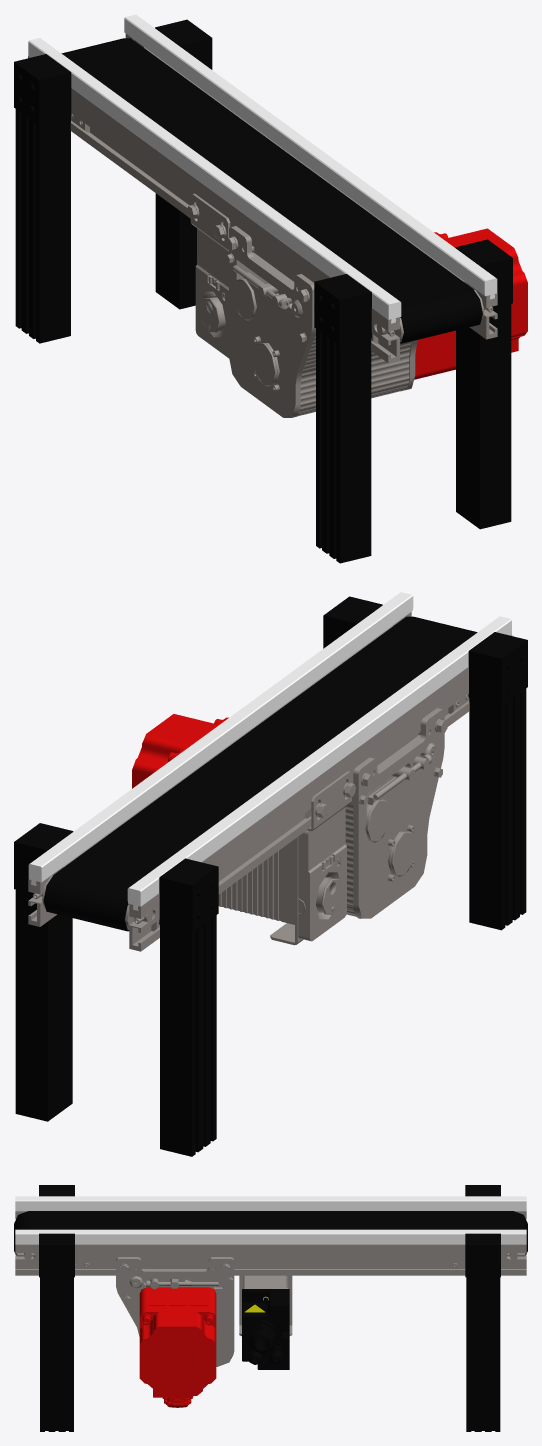
The model's file is Conveyor_Wing.obj.
3 views of the same model, one above another, from view 1: azimuth 30°, elevation 25°; view 2: azimuth 150°, elevation 25°; view 3: azimuth 270°, elevation 25° (orthographic). The views are drawn at different scales.
Parts seen in each view (by area): view 1: _60832185__60832186_3__60832186_11, _60832185_1__60832186__60832186_4__60832186_8__60832186_12, _60832186_1__60832186_9, _60832186_2__60832186_10; view 2: _60832185__60832186_3__60832186_11, _60832185_1__60832186__60832186_4__60832186_8__60832186_12, _60832186_1__60832186_9, _60832186_2__60832186_10; view 3: _60832185__60832186_3__60832186_11, _60832185_1__60832186__60832186_4__60832186_8__60832186_12, _60832186_1__60832186_9, _60832186_2__60832186_10, _60832186_5__60832186_13.
Boxes of the visible parts, <box> form: _60832185__60832186_3__60832186_11: <box>14,19,512,563</box>; _60832185_1__60832186__60832186_4__60832186_8__60832186_12: <box>28,33,497,417</box>; _60832186_1__60832186_9: <box>28,14,497,323</box>; _60832186_2__60832186_10: <box>414,228,527,379</box>; _60832185__60832186_3__60832186_11: <box>14,596,527,1156</box>; _60832185_1__60832186__60832186_4__60832186_8__60832186_12: <box>28,612,512,951</box>; _60832186_1__60832186_9: <box>28,592,511,910</box>; _60832186_2__60832186_10: <box>132,714,228,788</box>; _60832185__60832186_3__60832186_11: <box>14,1185,527,1431</box>; _60832185_1__60832186__60832186_4__60832186_8__60832186_12: <box>15,1211,526,1366</box>; _60832186_1__60832186_9: <box>15,1196,526,1244</box>; _60832186_2__60832186_10: <box>139,1287,216,1407</box>; _60832186_5__60832186_13: <box>242,1289,289,1369</box>.
Bounding box in the file's own units: 253 × 242 × 603.
